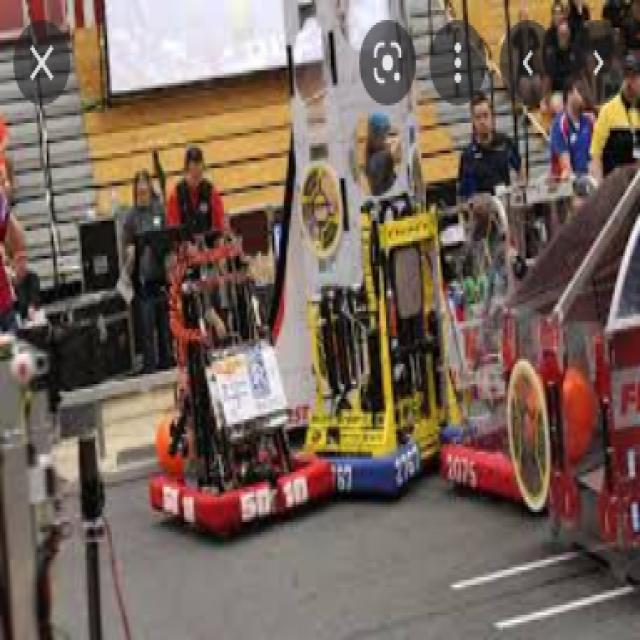robot: (146, 223, 334, 530), (303, 194, 462, 494), (438, 193, 552, 507)
